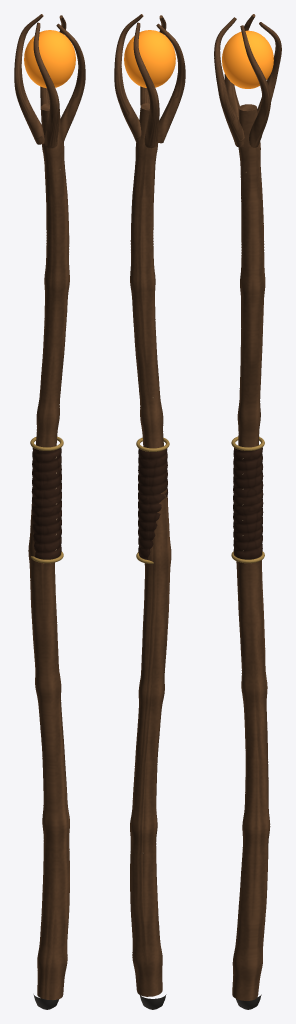
The model's file is oak-staff.glb.
3 views of the same model, side by side, from view 1: azimuth 30°, elevation 25°; view 2: azimuth 210°, elevation 25°; view 3: azimuth 330°, elevation 25° (orthographic).
Visible parts, largest first — view 1: wood / oiled hardwood, leather / oiled leather wrap, crystal / faceted crystal, brass / polished brass furniture, iron / hammer-scaled wrought iron; view 2: wood / oiled hardwood, leather / oiled leather wrap, crystal / faceted crystal, brass / polished brass furniture, iron / hammer-scaled wrought iron; view 3: wood / oiled hardwood, leather / oiled leather wrap, crystal / faceted crystal, brass / polished brass furniture, iron / hammer-scaled wrought iron.
Part boxes in pixels (left/top/right/bottom): wood / oiled hardwood: left=14, top=14, right=85, bottom=1000; leather / oiled leather wrap: left=31, top=447, right=61, bottom=559; crystal / faceted crystal: left=24, top=30, right=75, bottom=88; brass / polished brass furniture: left=30, top=436, right=63, bottom=563; iron / hammer-scaled wrought iron: left=33, top=994, right=58, bottom=1009; wood / oiled hardwood: left=114, top=14, right=185, bottom=996; leather / oiled leather wrap: left=138, top=448, right=167, bottom=559; crystal / faceted crystal: left=124, top=30, right=175, bottom=87; brass / polished brass furniture: left=136, top=437, right=169, bottom=563; iron / hammer-scaled wrought iron: left=140, top=994, right=166, bottom=1009; wood / oiled hardwood: left=214, top=14, right=281, bottom=1000; leather / oiled leather wrap: left=233, top=447, right=263, bottom=559; crystal / faceted crystal: left=222, top=30, right=273, bottom=88; brass / polished brass furniture: left=231, top=436, right=264, bottom=563; iron / hammer-scaled wrought iron: left=236, top=994, right=261, bottom=1009.
Size of the model in its own units: 0.1067 by 1.77 by 0.1068.
8 materials, 4 textured.
